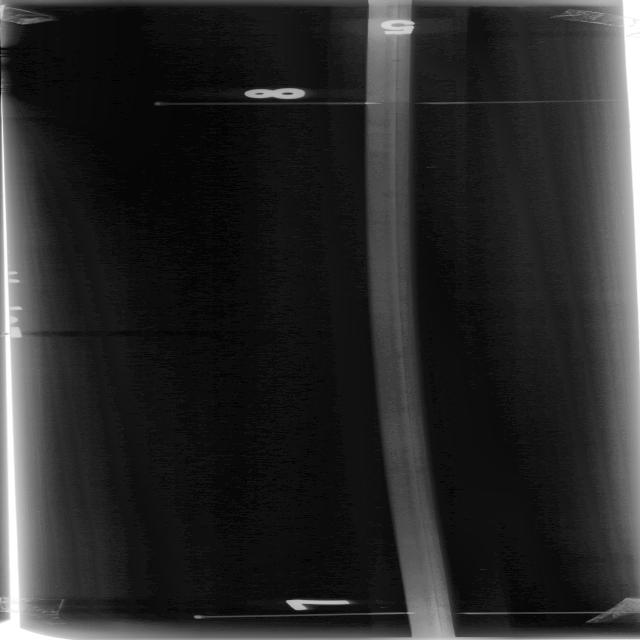LOP: (388, 374, 439, 606)
